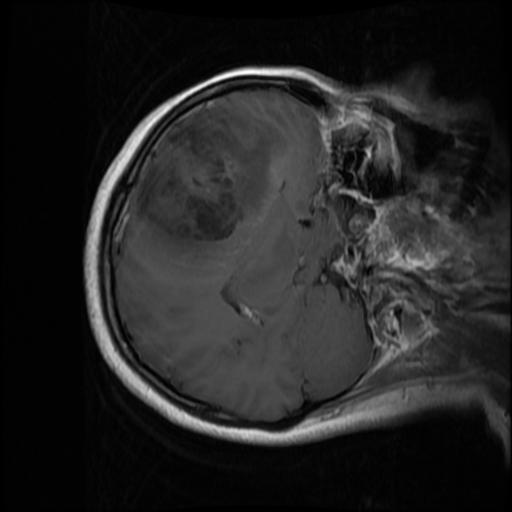glioma: (135, 109, 265, 246)
